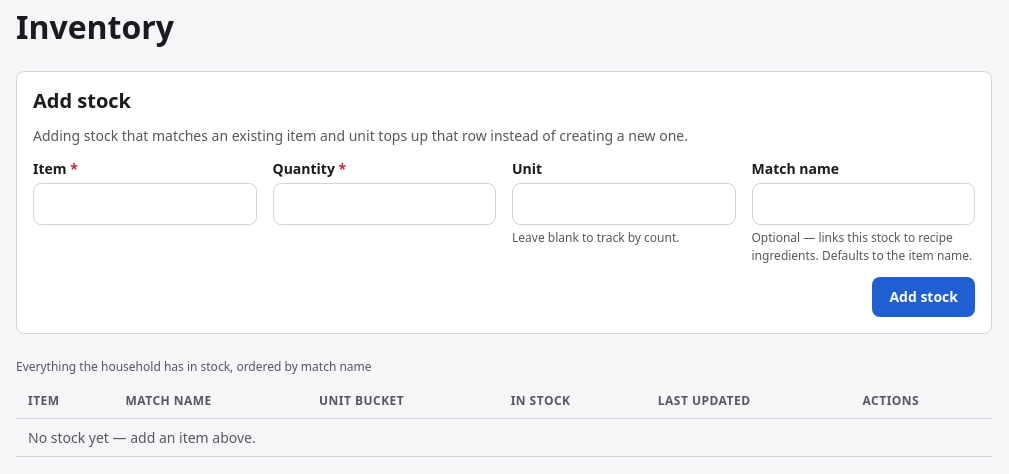
Scenario: Inventory screen › blocks the POST on the client guard when the item is blank
Type "5" into the number field labelled "Quantity *" at (384, 204), box top-left (272, 183), bottom-right (496, 225)
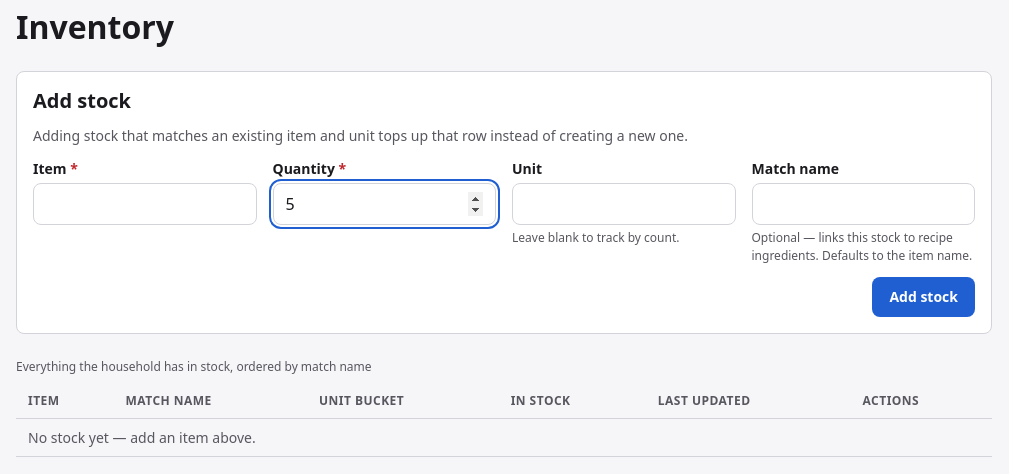
Click the button "Add stock" at (924, 297), box top-left (872, 277), bottom-right (975, 317)
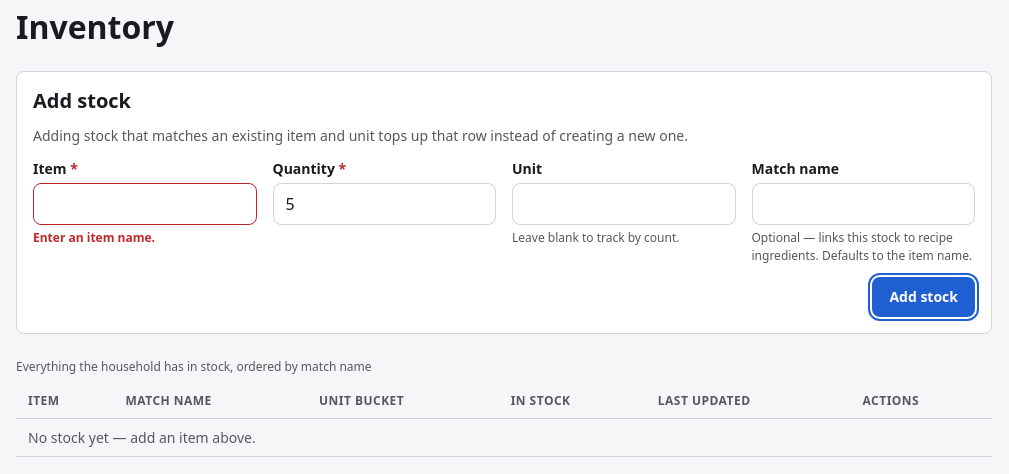
expect the text "Enter an item name." is shown: met, box top-left (33, 229), bottom-right (155, 246)
